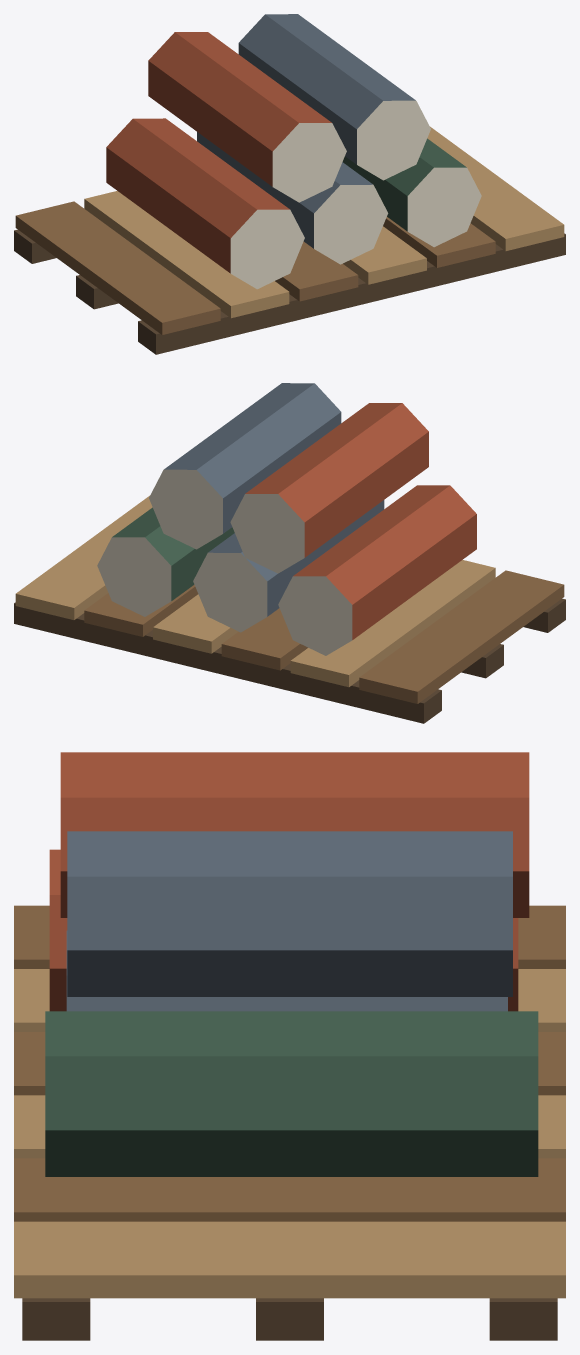
File: quay-stack-cloth.glb
3 views of the same model, one above another, from view 1: azimuth 30°, elevation 25°; view 2: azimuth 150°, elevation 25°; view 3: azimuth 270°, elevation 25° (orthographic). The views are drawn at different scales.
Parts seen in each view (by area): view 1: quay-stack-cloth; view 2: quay-stack-cloth; view 3: quay-stack-cloth.
Part boxes in pixels (x1,y1,x2,y2): quay-stack-cloth: [14, 14, 565, 354]; quay-stack-cloth: [14, 383, 565, 723]; quay-stack-cloth: [14, 752, 565, 1340].
Size of the model in its own units: 2.1 by 0.915 by 1.3.
Materials: 1 (1 with a texture image).
